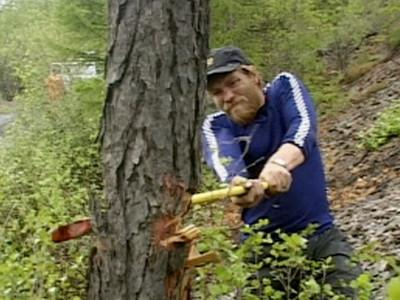person: (200, 47, 364, 300)
